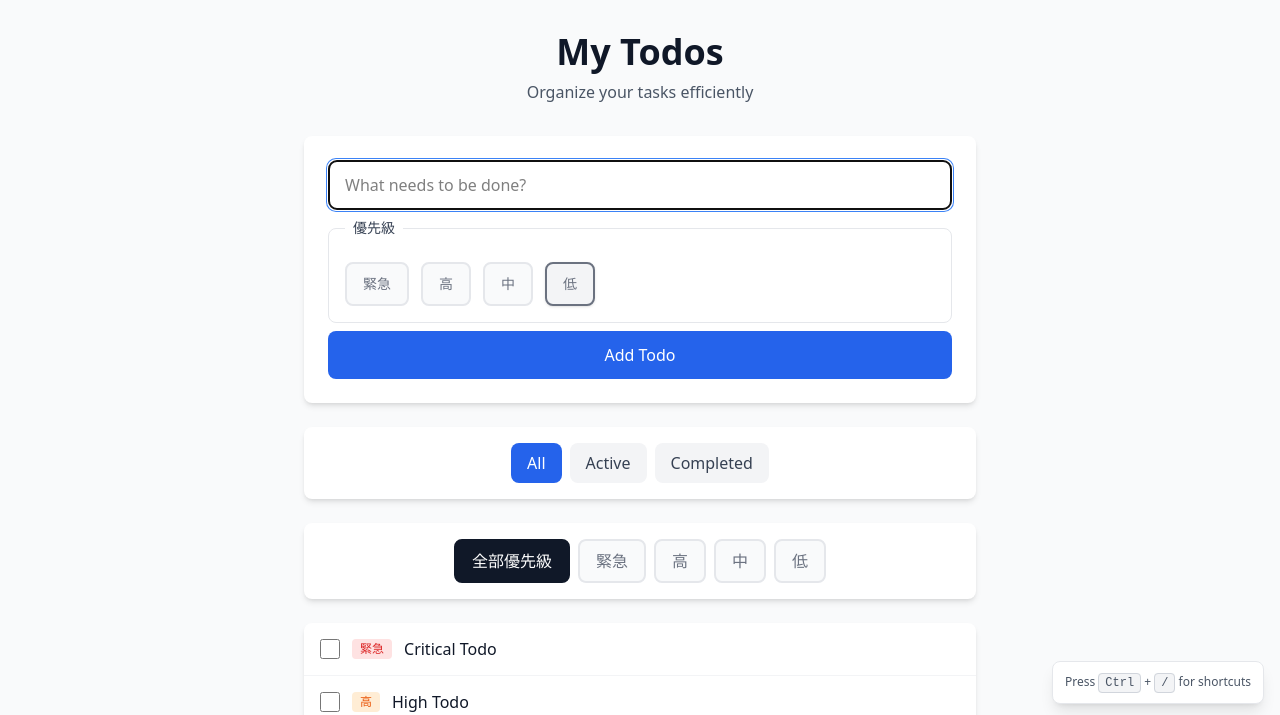
Test: TodoList › Priority Filter Functionality (CR-002) › should filter todos by CRITICAL priority
Click the button "緊急" at coordinates (612, 561), box [578,539,646,583]
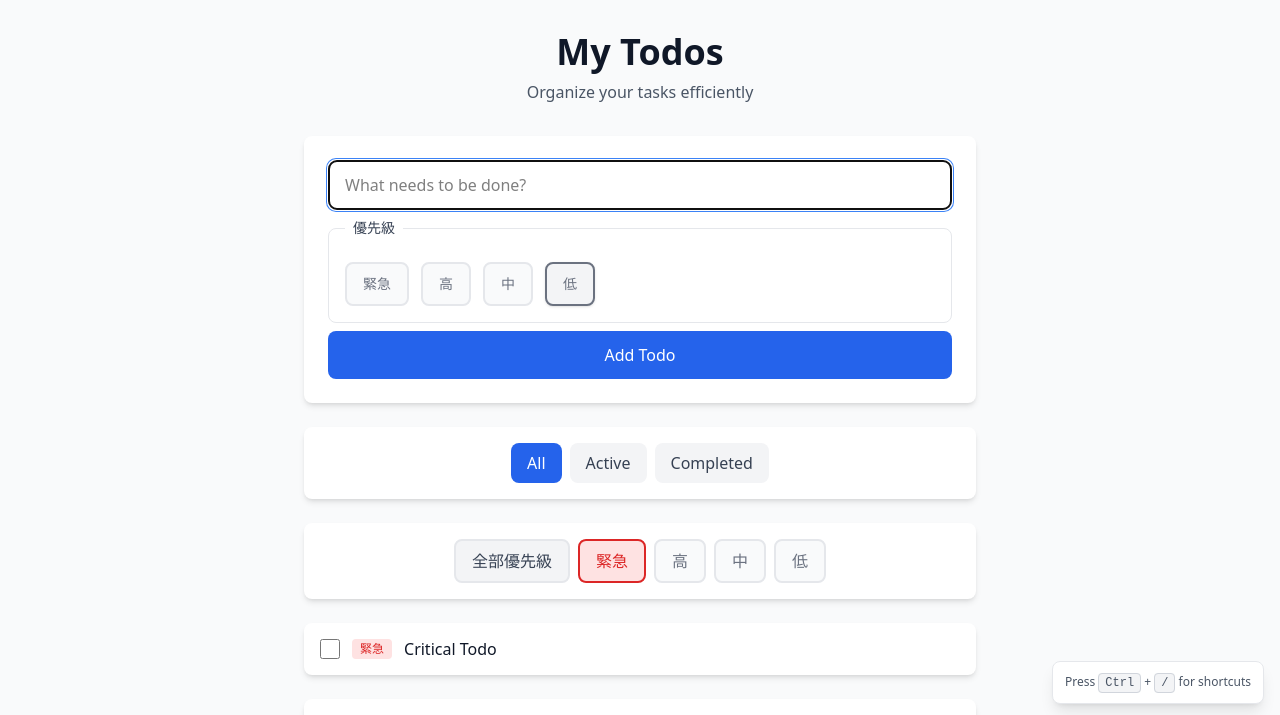
Expected: the button "Critical Todo" is shown, [404,638,497,660]
Result: the button "High Todo" is gone
